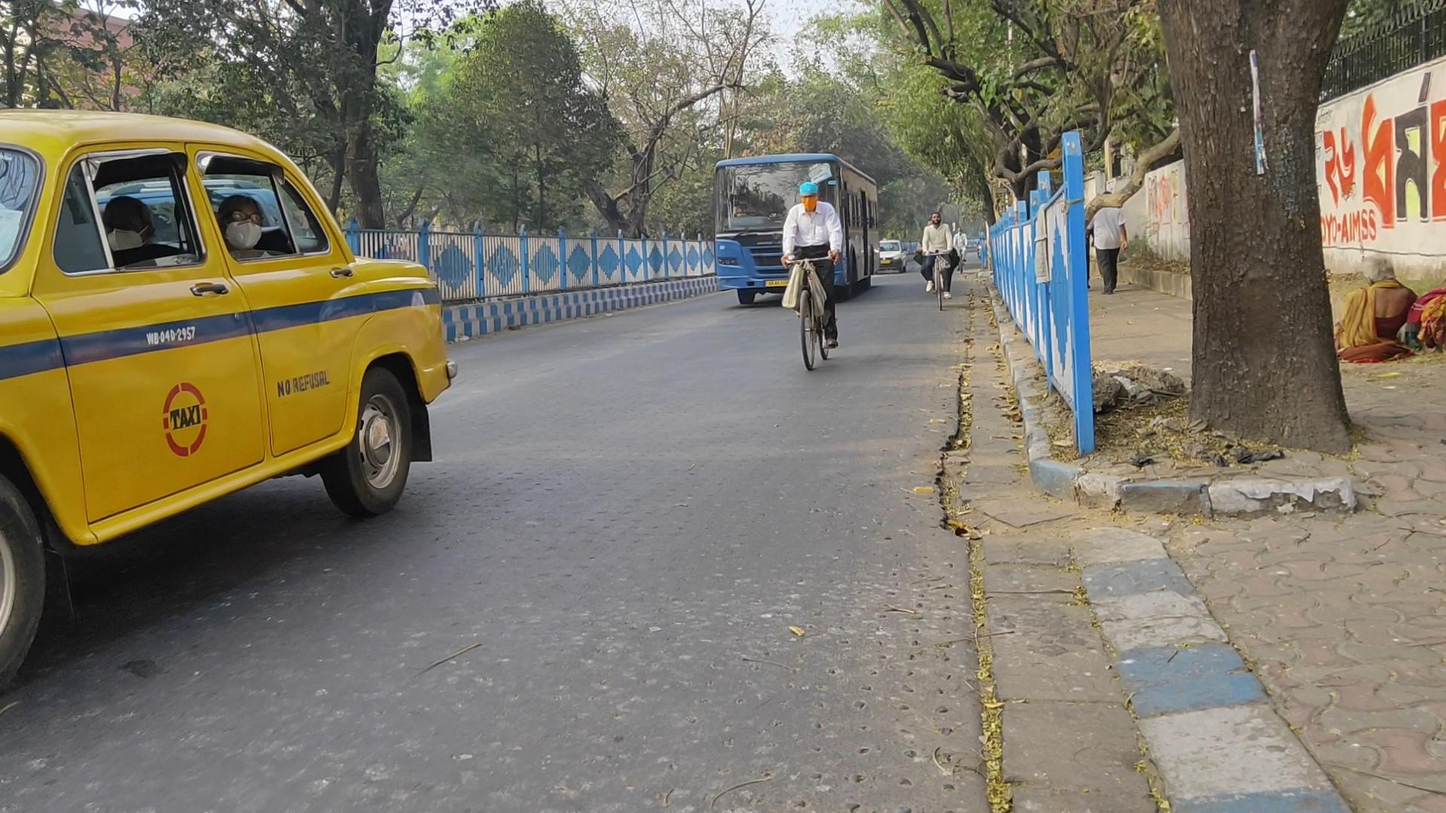Bus: (712, 157, 879, 309)
bike: (780, 181, 843, 370), (922, 213, 959, 311), (953, 227, 969, 275)
car: (2, 106, 458, 699), (879, 238, 908, 276)
